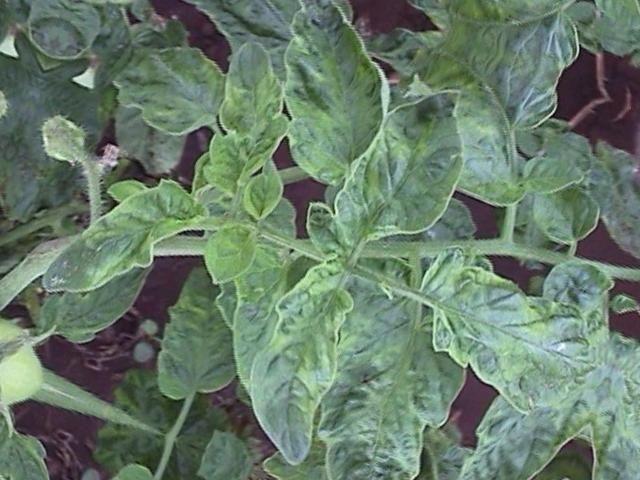Tomato leaf mosaic virus: (222, 0, 416, 199), (397, 248, 608, 426), (317, 63, 489, 280), (218, 254, 377, 472), (36, 151, 211, 341), (308, 324, 454, 480), (185, 34, 311, 205), (92, 23, 238, 149), (192, 210, 265, 295), (515, 140, 586, 206)
